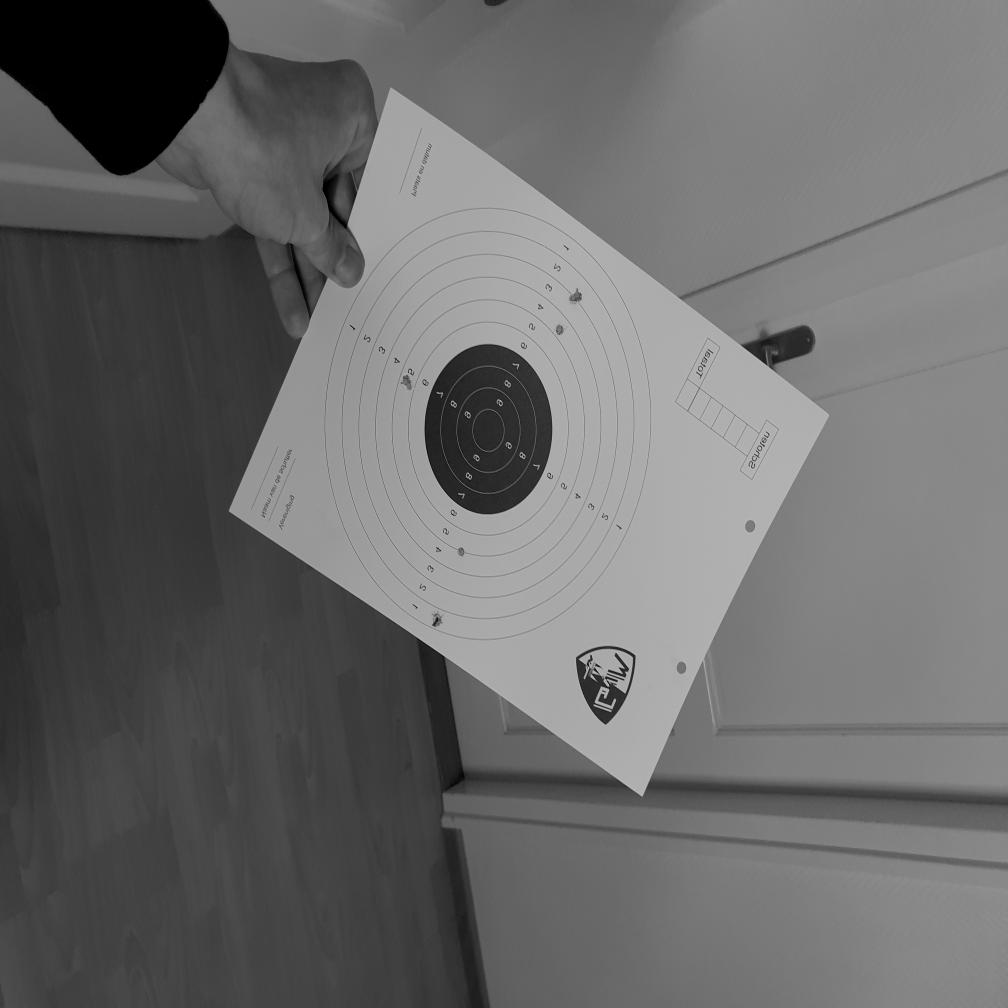1: (431, 610, 444, 628)
3: (568, 292, 578, 309), (574, 288, 584, 302)
4: (554, 322, 568, 337)
5: (455, 544, 468, 561), (400, 374, 411, 386), (406, 380, 414, 392)
Target: (323, 203, 653, 639)
black_contour: (424, 344, 552, 514)
